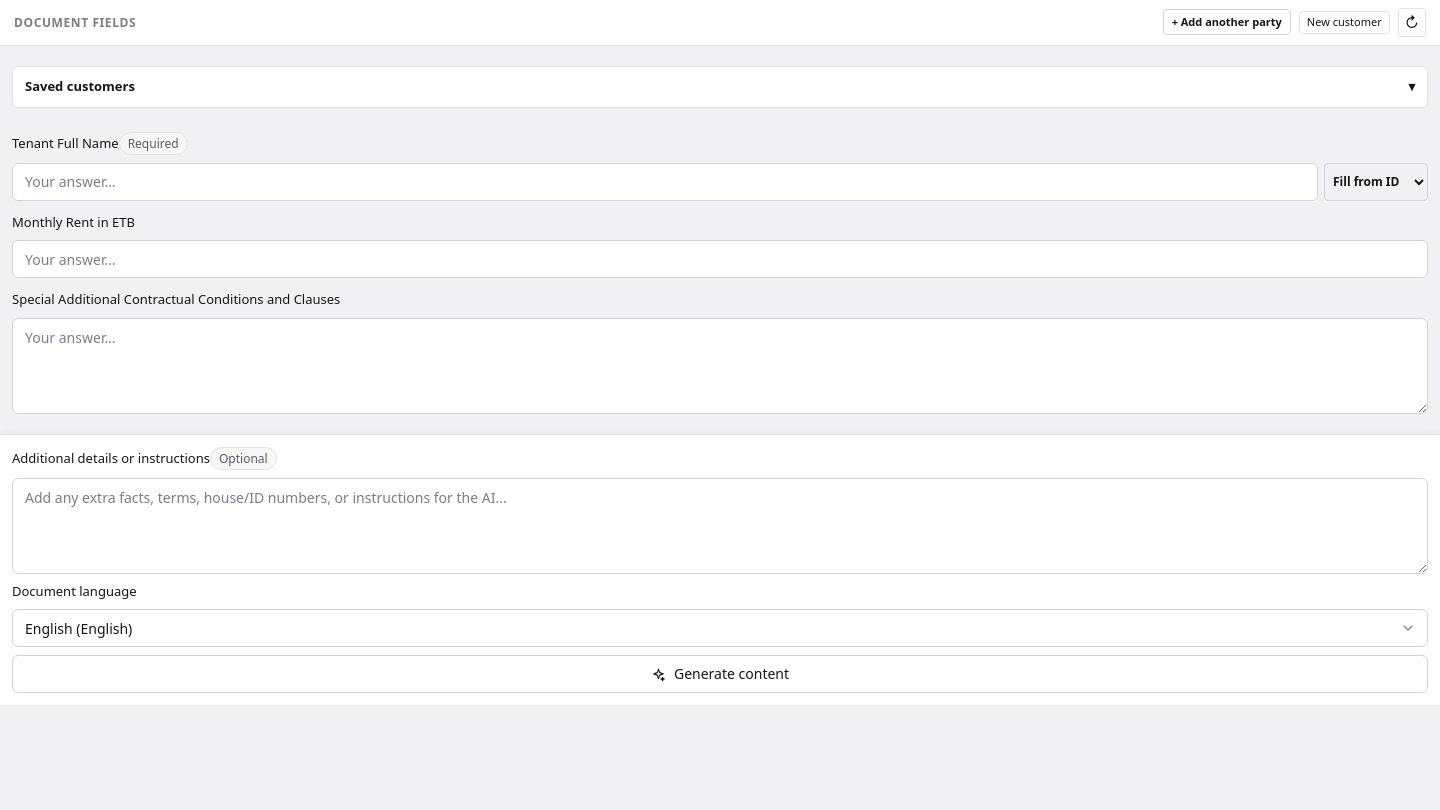
Test case: Inline Telegram ID Mapping & Repeatable Co-Party Slots › shows the picker as soon as the vault has a scanned ID
Co-party rows get the picker too.
Step 1. Click the button with test id "header-add-party-btn" → point(1227, 22), box [1163, 9, 1291, 35]
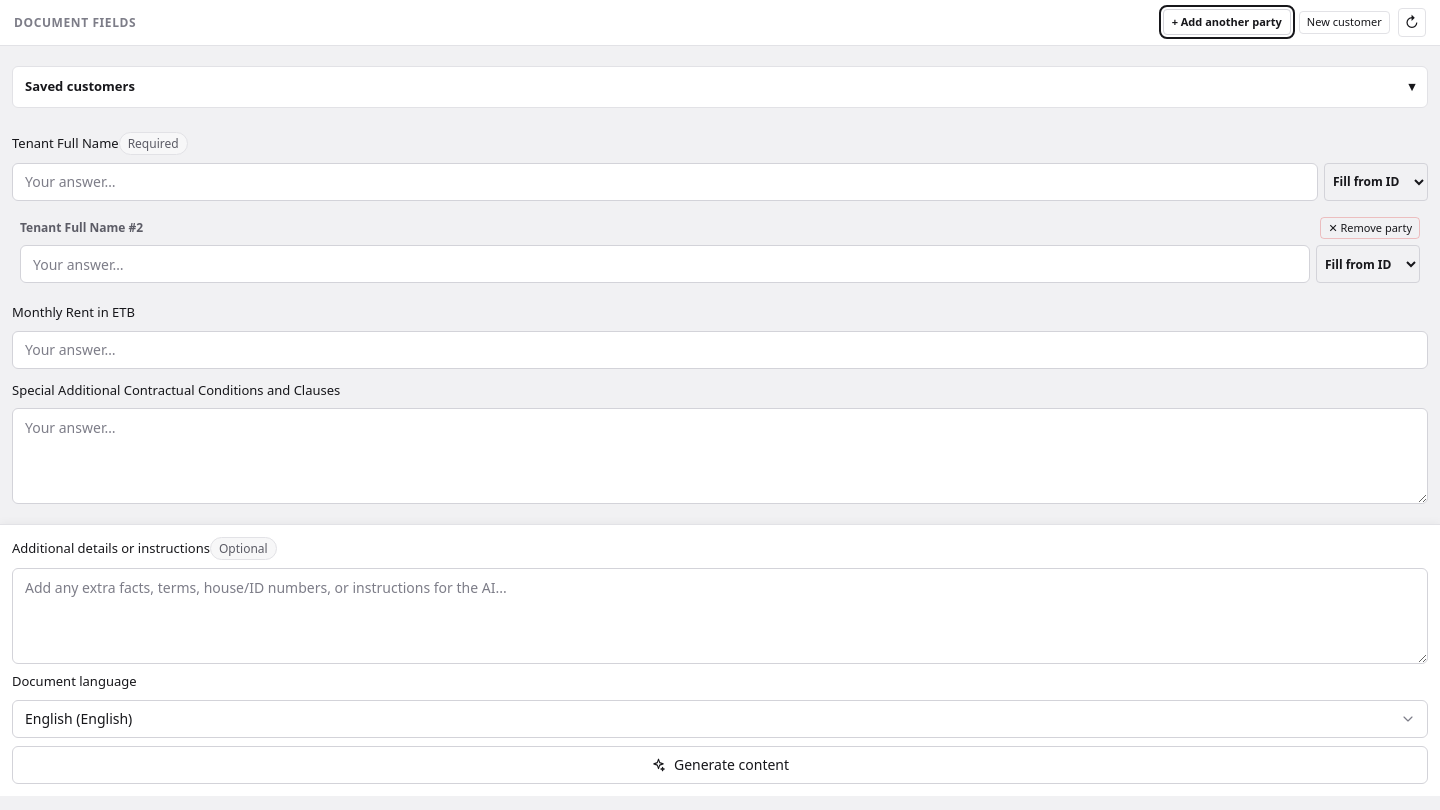
expect the dropdown with test id "party-telegram-select-tenant_name-1" is shown: met, box [1316, 245, 1420, 283]
